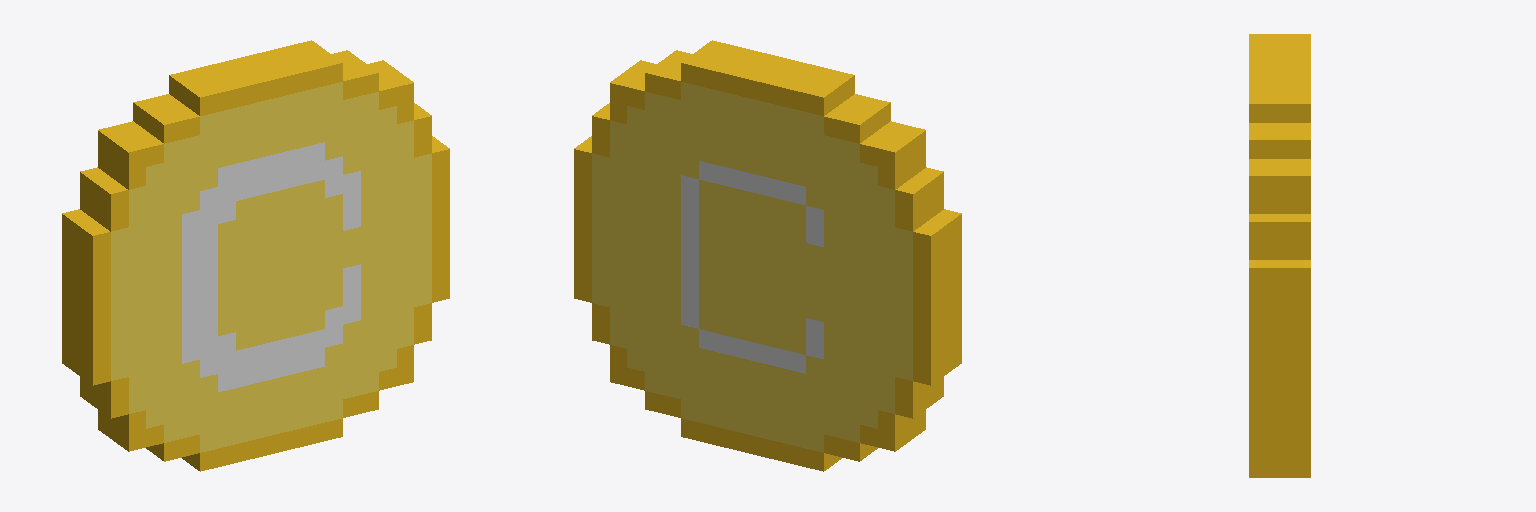
3 views of the same model, side by side, from view 1: azimuth 30°, elevation 25°; view 2: azimuth 150°, elevation 25°; view 3: azimuth 270°, elevation 25° (orthographic).
Parts seen in each view (by area): view 1: Coin; view 2: Coin; view 3: Coin.
Boxes of the visible parts, x1,y1,x2,y2 form: Coin: [62, 40, 449, 471]; Coin: [574, 40, 961, 471]; Coin: [1249, 34, 1310, 477].
Size of the model in its own units: 2 by 2 by 0.3.
1 materials, 1 textured.